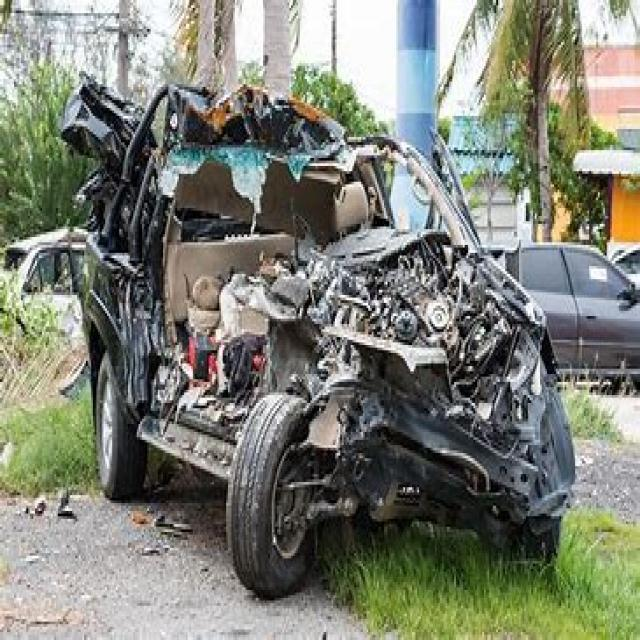Accident: (58, 46, 582, 564)
